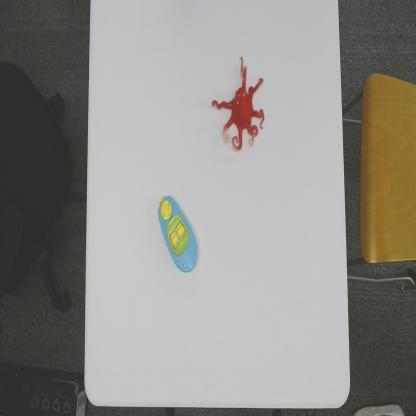Boat: (158, 192, 199, 274)
Octopus: (213, 64, 267, 149)
